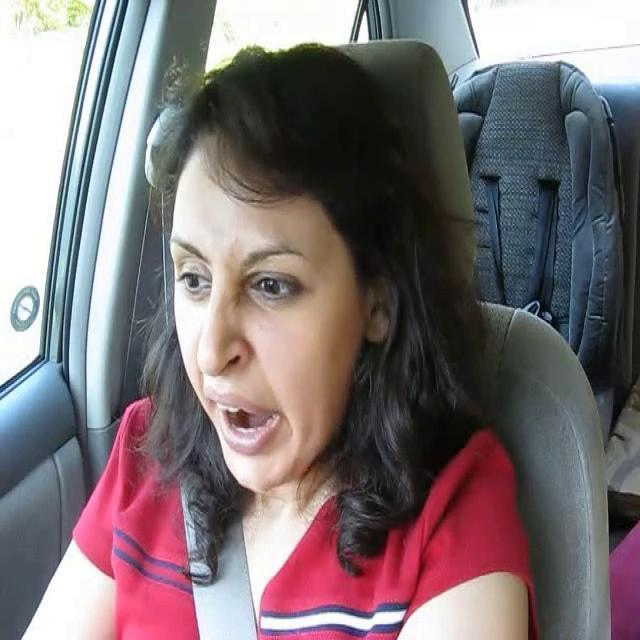close: (237, 234, 316, 312), (168, 223, 215, 314)
